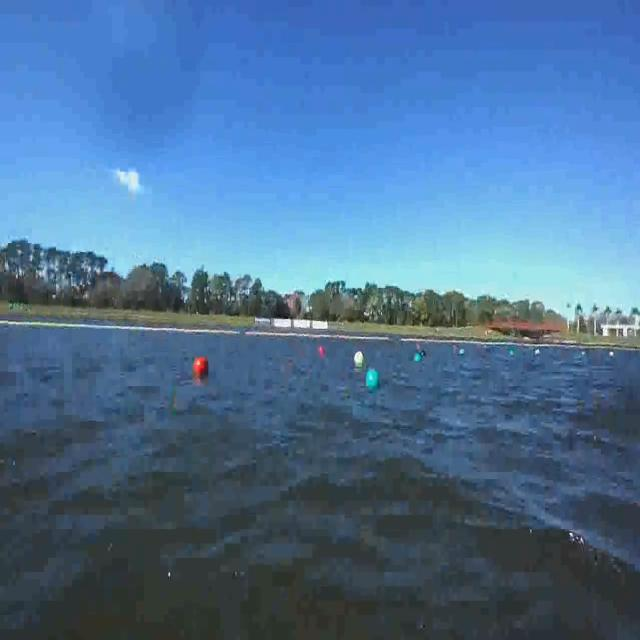green-buoy: (366, 369, 378, 386), (415, 353, 423, 363)
red-buoy: (195, 357, 209, 372), (317, 340, 325, 358)
yellow-buoy: (356, 352, 364, 365)
